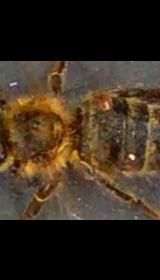varroa_mite: (94, 90, 113, 114)
